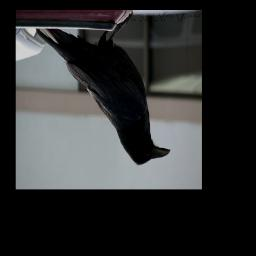Crow: (35, 13, 171, 166)
